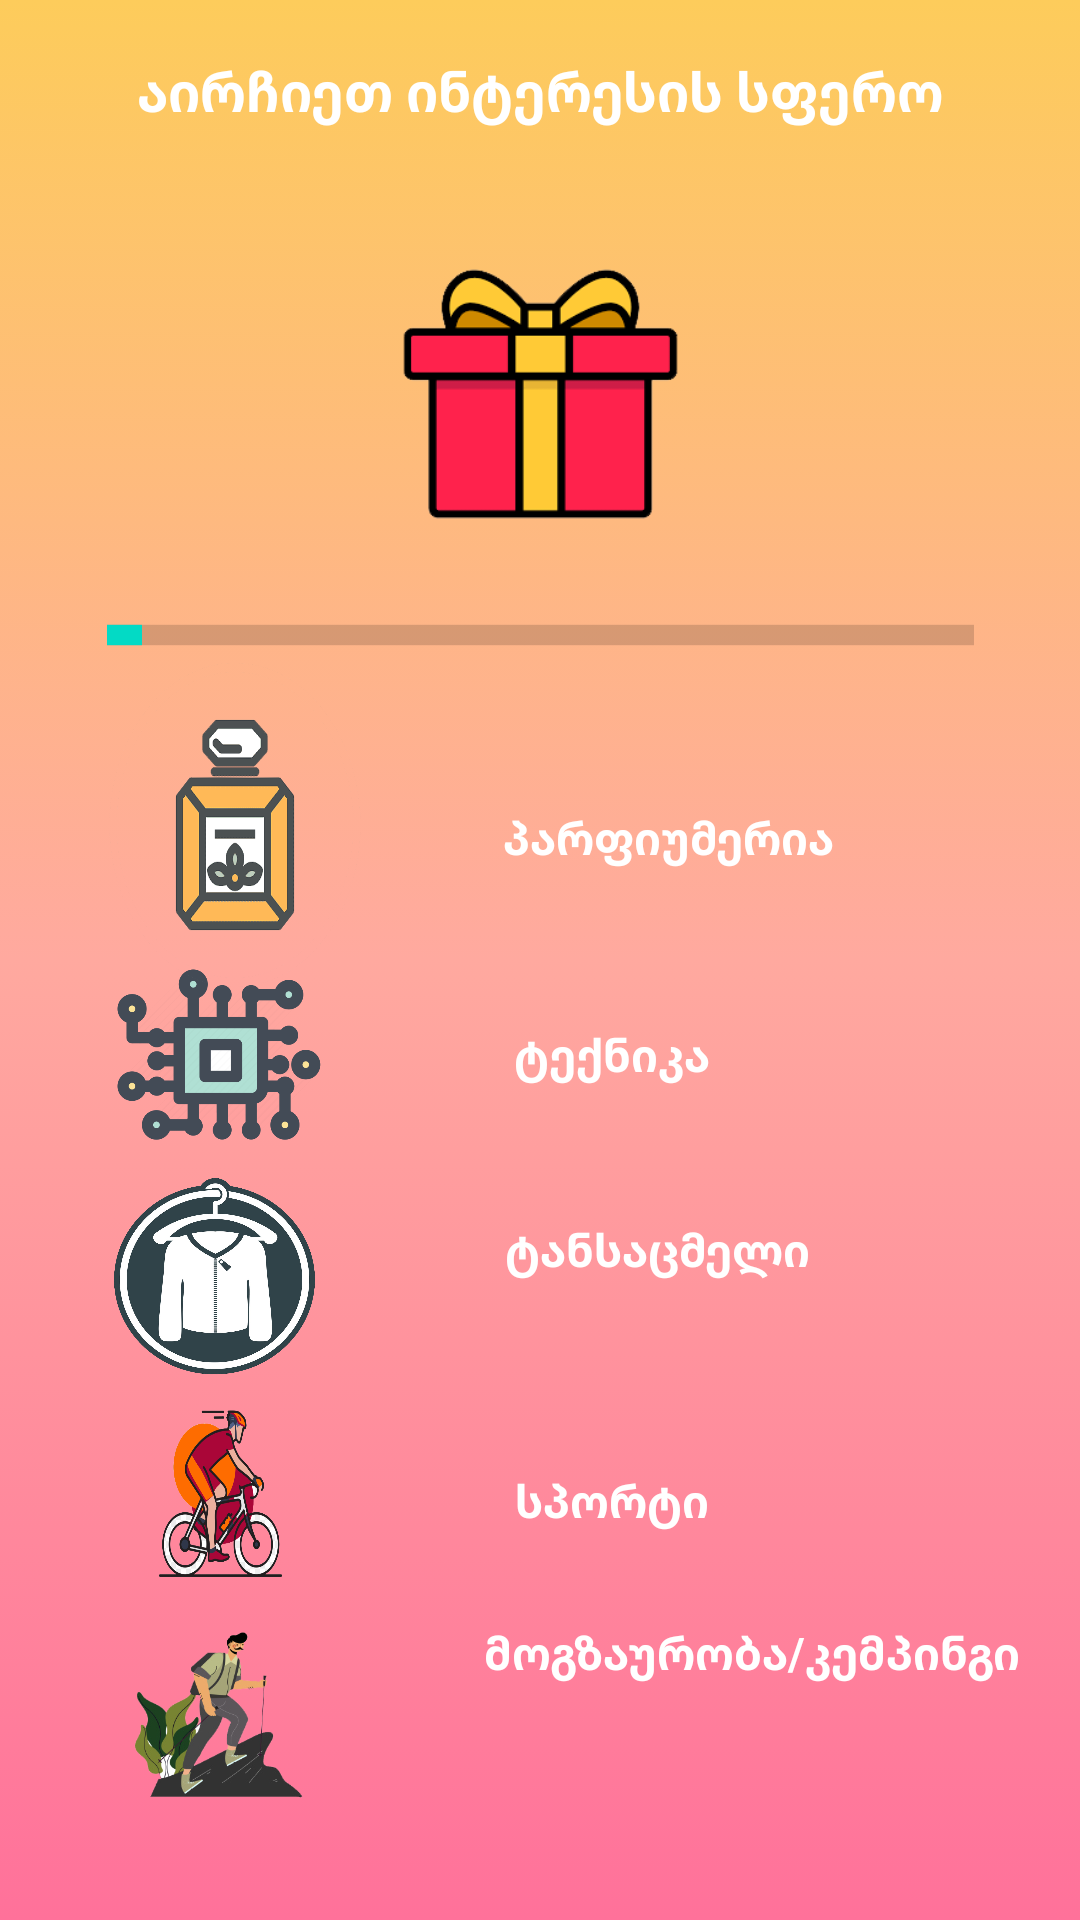

Point at icon controls on the screen. Image size 1080×1920, points as (x,y).
camping: (218,1715)
gift: (540,394)
parfiumeria: (235,825)
sport: (220,1493)
tansacmeli: (214,1276)
teknika: (219,1054)
